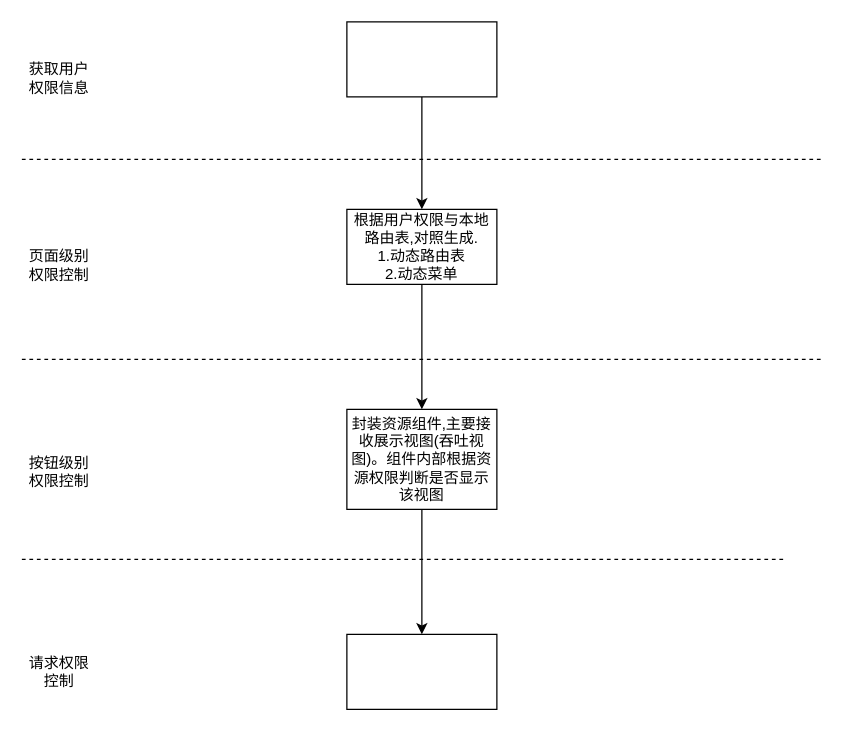
The diagram is 845 pixels wide and 731 high, and some of its shapes have lost their labels. Here are the shapes that lost their labels. From the top down, the box of each, then its label:
(346, 21, 497, 97): 获取用户信息 1.路由权限 2.资源权限
(346, 633, 497, 709): 封装请求库，利用拦截器根据资源权限对请求进行拦截
